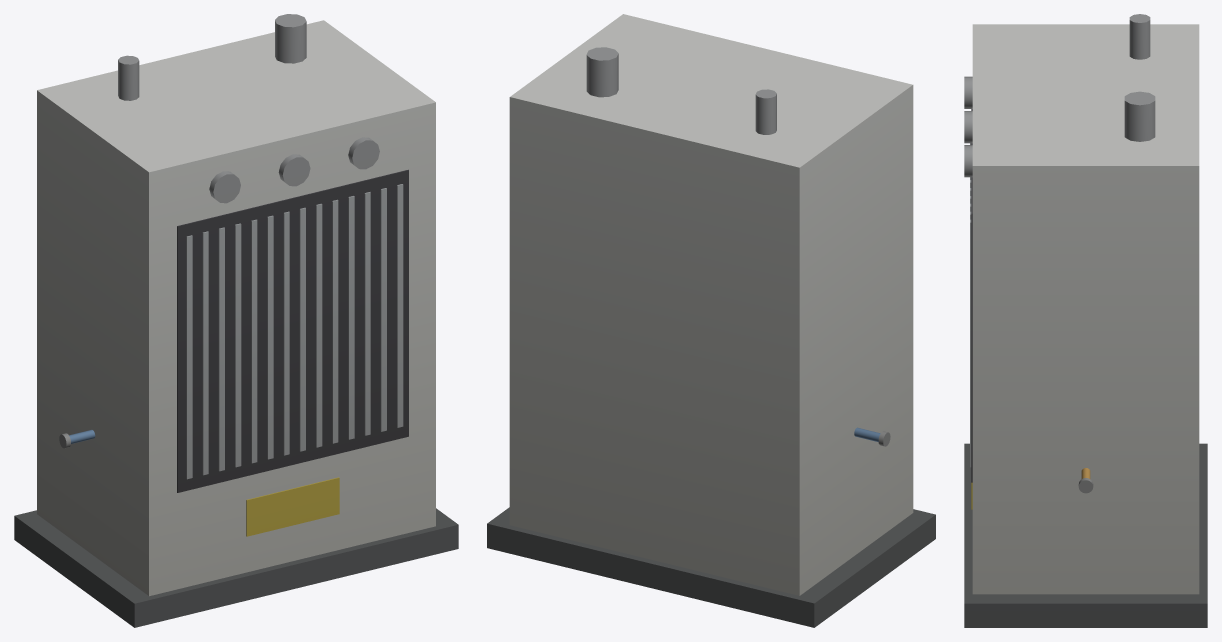
Rendered from mcElectro_steel.glb.
The picture shows the model from 3 angles, left to right: view 1: azimuth 30°, elevation 25°; view 2: azimuth 150°, elevation 25°; view 3: azimuth 270°, elevation 25°; orthographic projection.
Visible parts, largest first — view 1: mcElectro_steel; view 2: mcElectro_steel; view 3: mcElectro_steel.
Part boxes in pixels (bbox=[...]): mcElectro_steel: bbox=[14, 14, 458, 627]; mcElectro_steel: bbox=[487, 14, 935, 627]; mcElectro_steel: bbox=[964, 14, 1207, 627].
Bounding box in the file's own units: 1.5 × 2 × 0.9.
